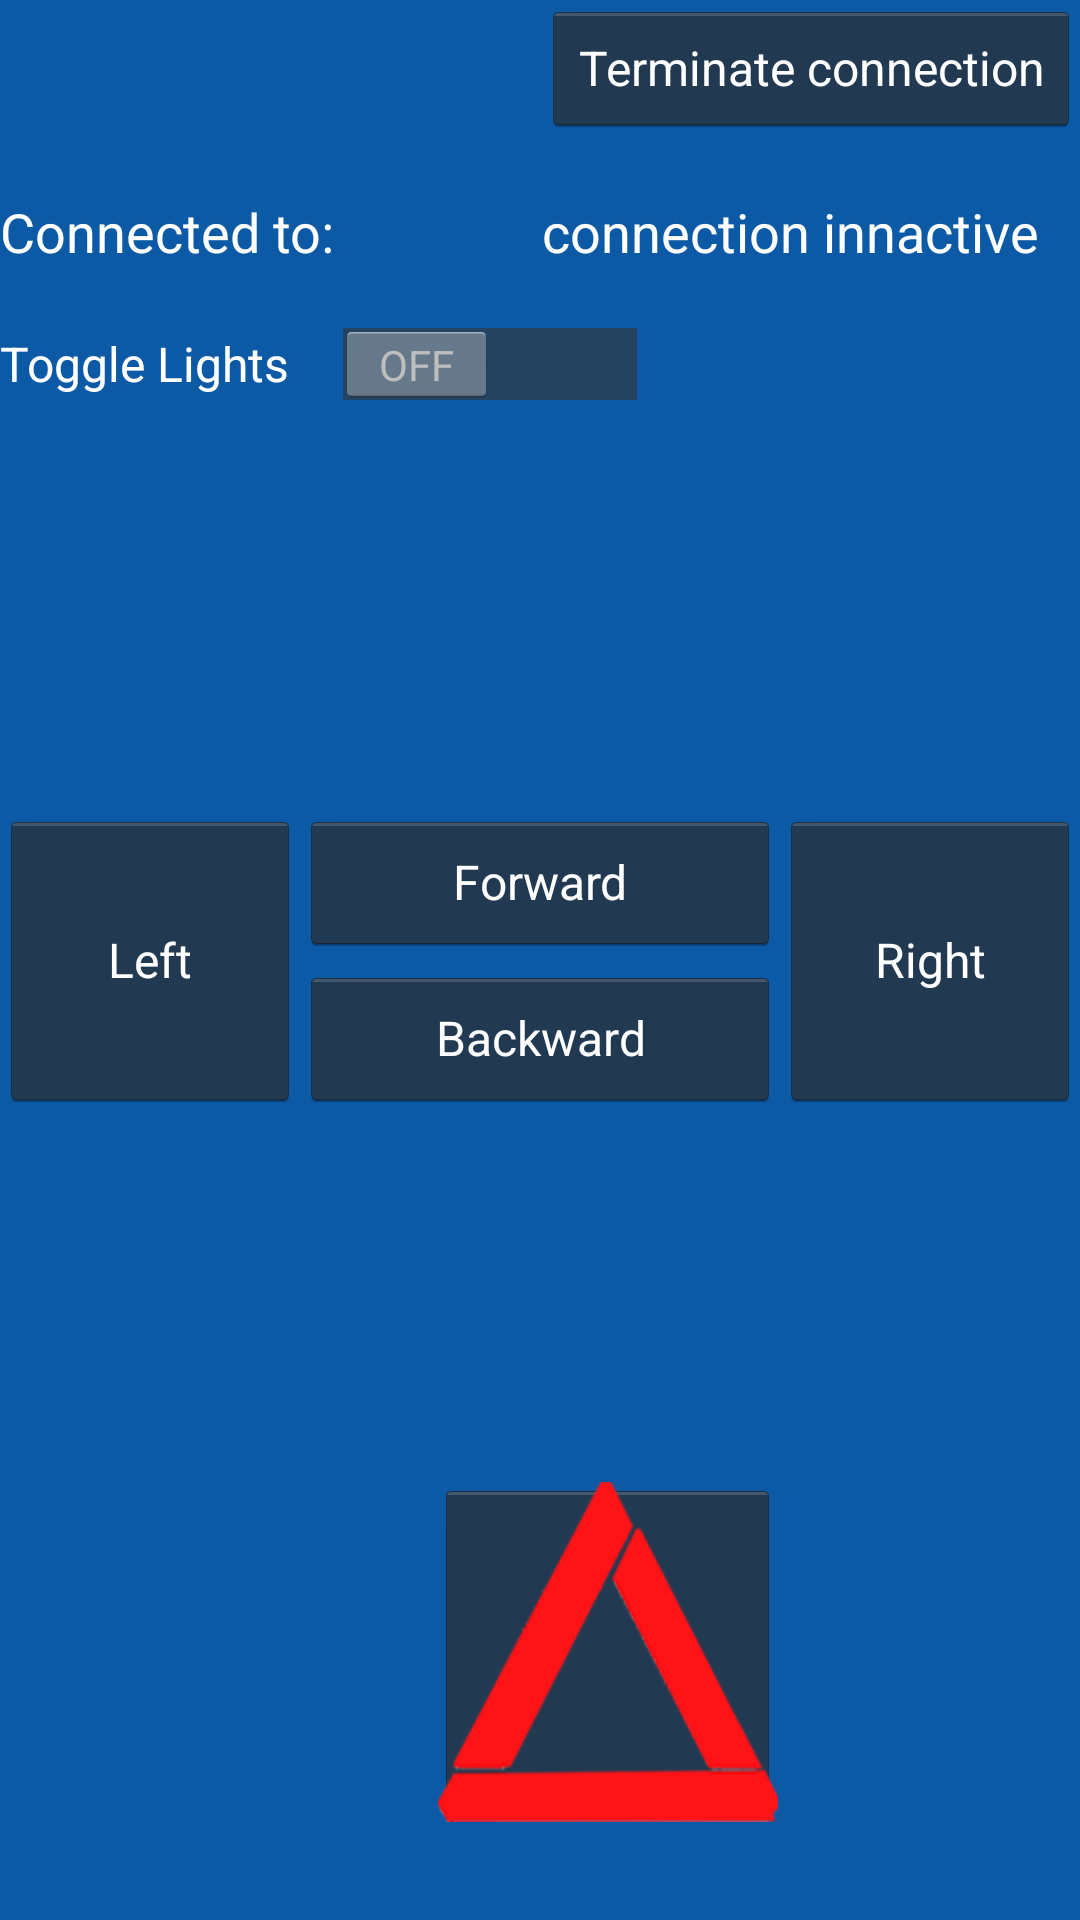

Icon bounding boxes for this 1080×1920 phone screenshot, format {"left": x1, "top": y1, "right": x2, "bottom": y2}:
triangel: {"left": 438, "top": 1482, "right": 778, "bottom": 1822}
